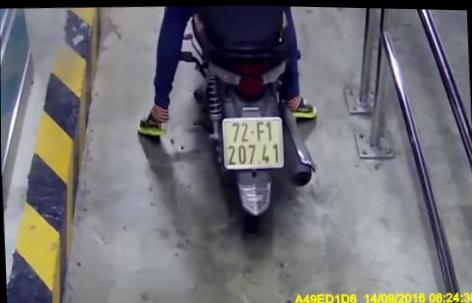LP: (222, 113, 285, 170)
